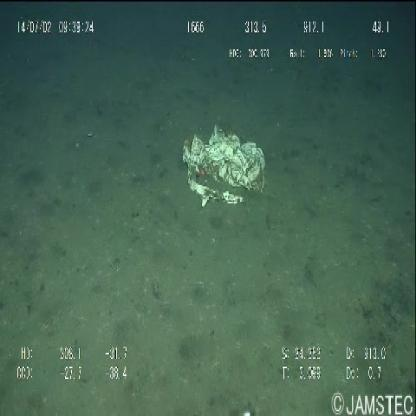Rác: (175, 112, 273, 225)
